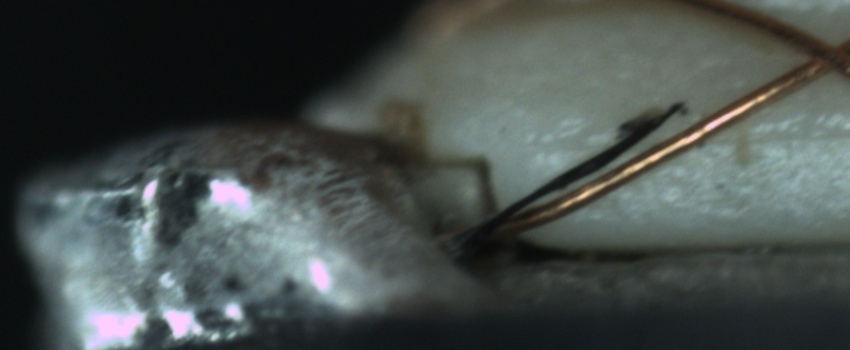CL: (790, 23, 848, 80)
DL: (549, 109, 850, 171)
